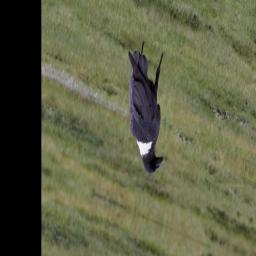Crow: (112, 37, 178, 180)
